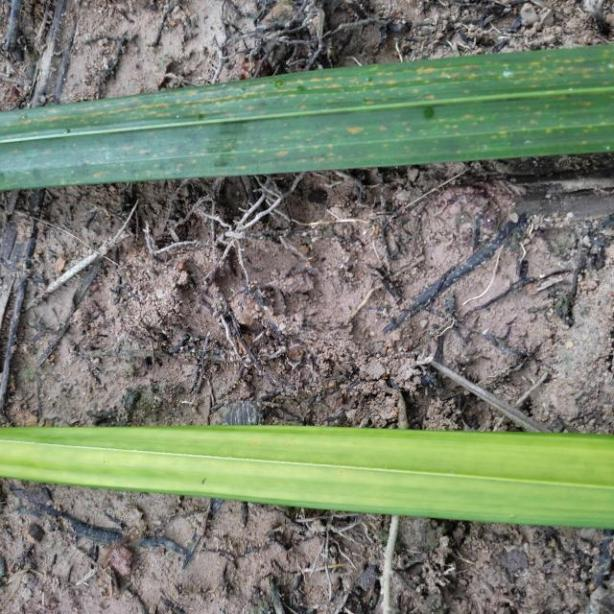nitrogen: (0, 37, 614, 192), (0, 414, 614, 523)
